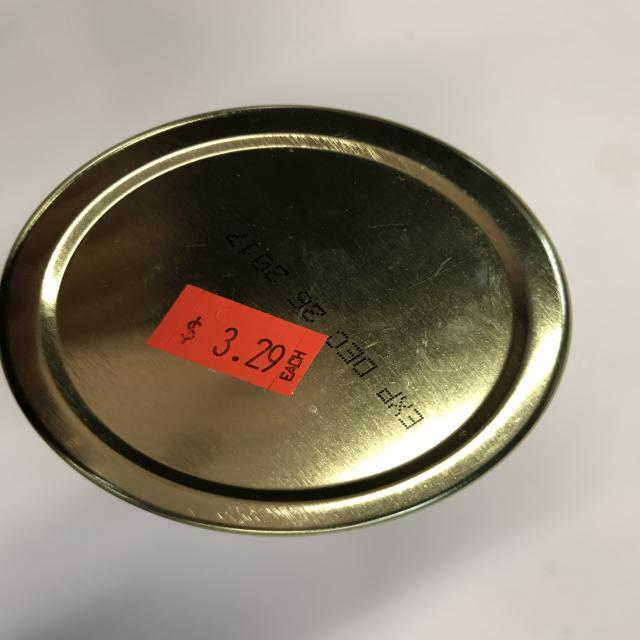metal: (0, 105, 572, 538)
